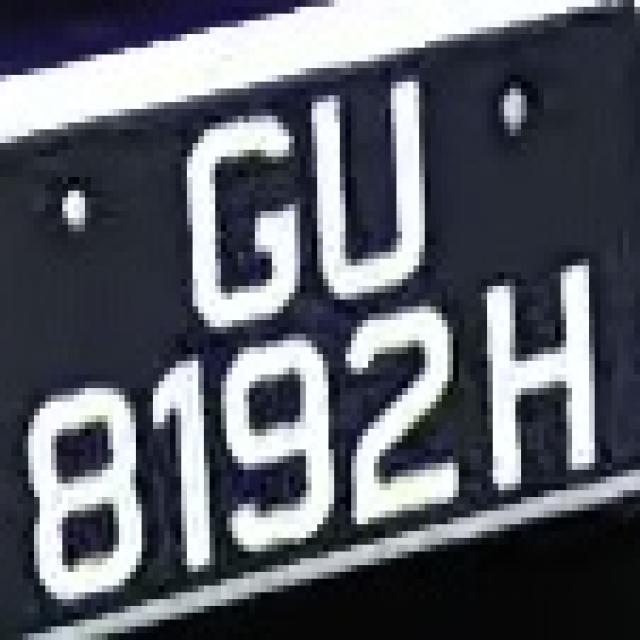1: (147, 327, 232, 606)
2: (318, 299, 482, 552)
8: (17, 361, 153, 613)
9: (215, 334, 351, 558)
G: (170, 89, 306, 347)
H: (464, 259, 612, 517)
U: (289, 54, 425, 327)
